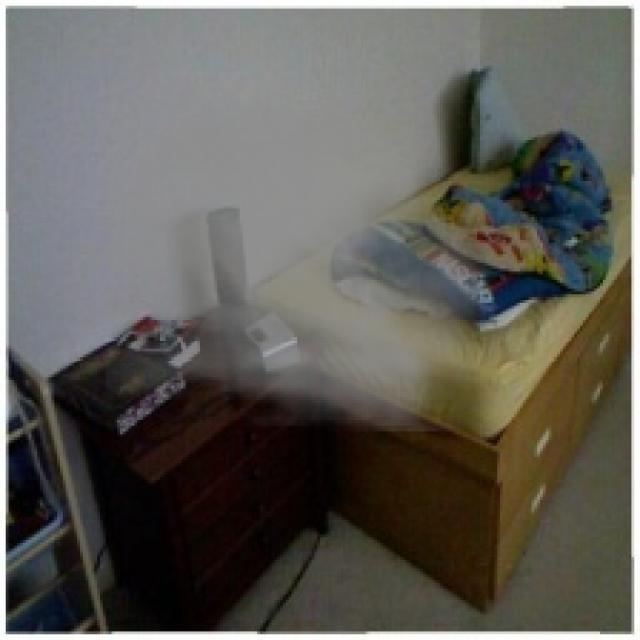Smoke: (106, 86, 512, 432)
